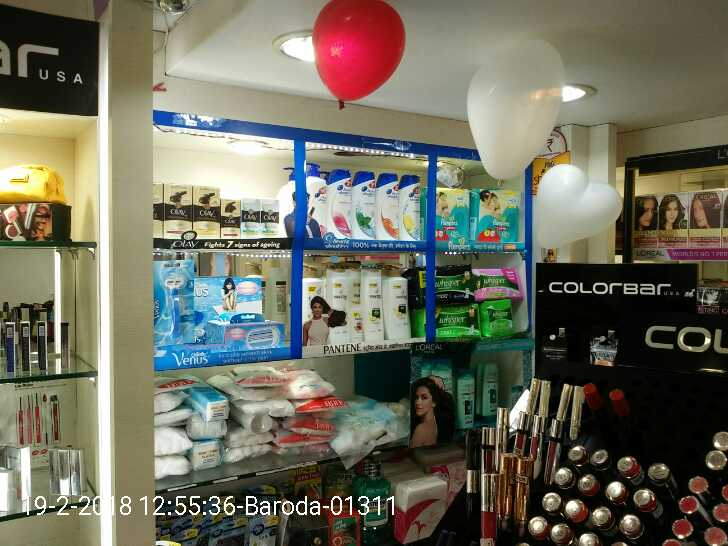ambipureVesus: (156, 489, 278, 546)
venus: (156, 260, 194, 341), (208, 312, 284, 347)
